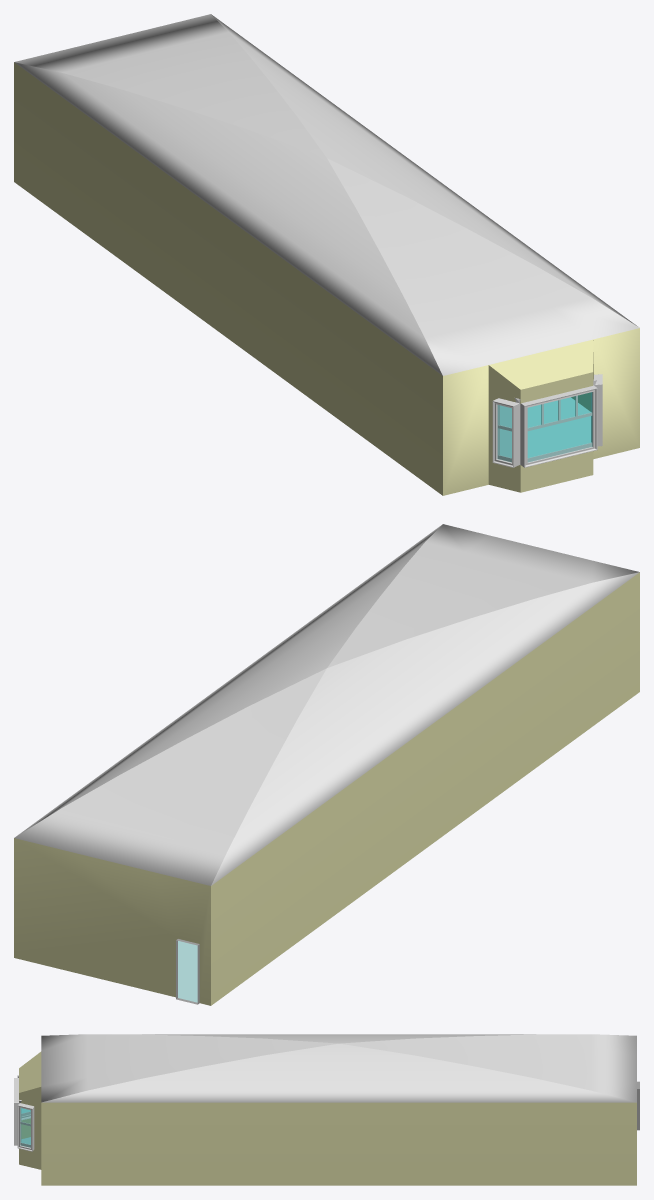
The model's file is KitchenPart3.fbx.
The picture shows the model from 3 angles, top to bottom: view 1: azimuth 30°, elevation 25°; view 2: azimuth 150°, elevation 25°; view 3: azimuth 270°, elevation 25°; orthographic projection. The views are drawn at different scales.
Visible parts, largest first — view 1: polySurface453, polySurface475; view 2: polySurface453; view 3: polySurface453, polySurface475.
Boxes of the visible parts, x1,y1,x2,y2 form: polySurface453: (14,14,639,495); polySurface475: (492,374,602,467); polySurface453: (14,524,639,1005); polySurface453: (19,1034,639,1185); polySurface475: (14,1075,34,1151).
Bounding box in the file's own units: 6.91 × 5.25 × 27.37.
